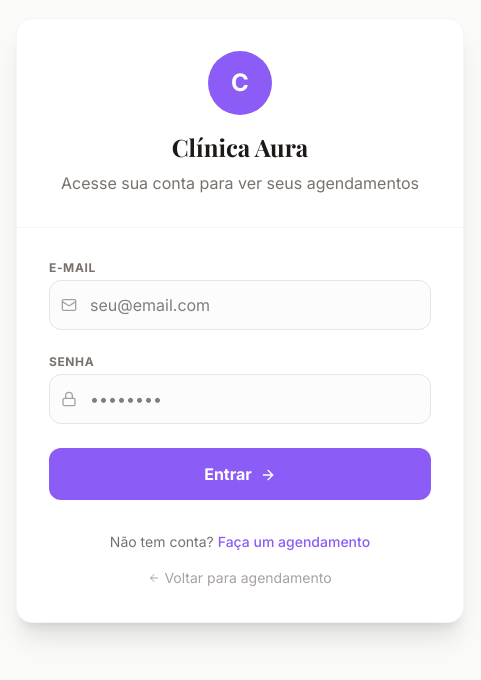
Scenario: pages/patient-portal/PatientLogin › credenciais inválidas (login retorna false) exibe mensagem de erro genérica
Type "maria@example.com" into the field with placeholder "seu@email.com" at (240, 304), box [49,280,431,330]
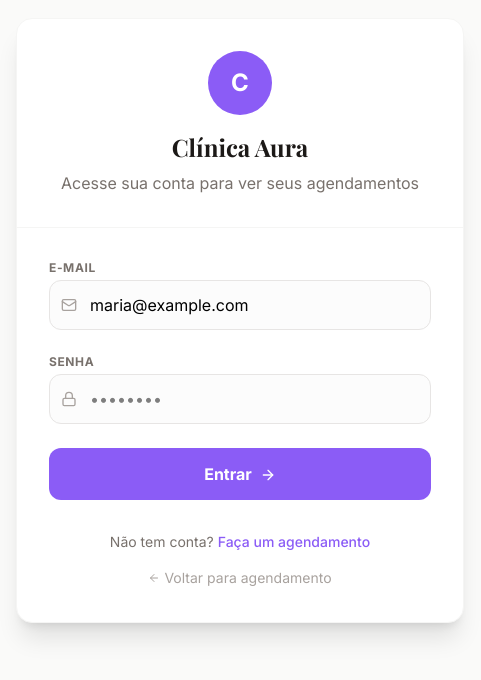
Type "senha123" into the password field with placeholder "••••••••" at (240, 398), box [49,374,431,424]
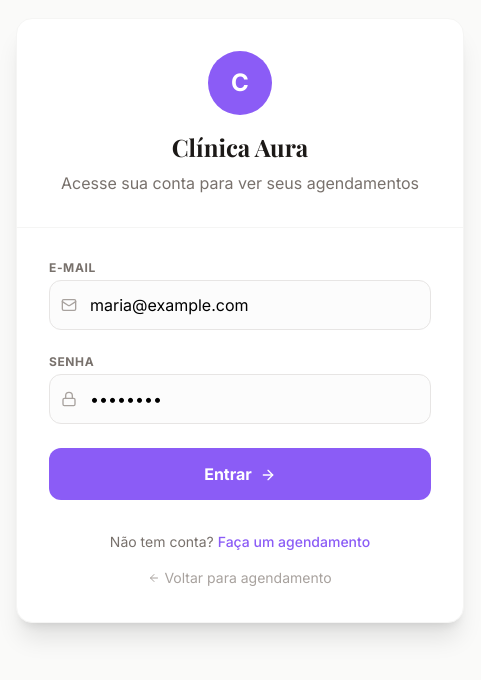
Click the button "Entrar" at (240, 474), box [49,448,431,500]
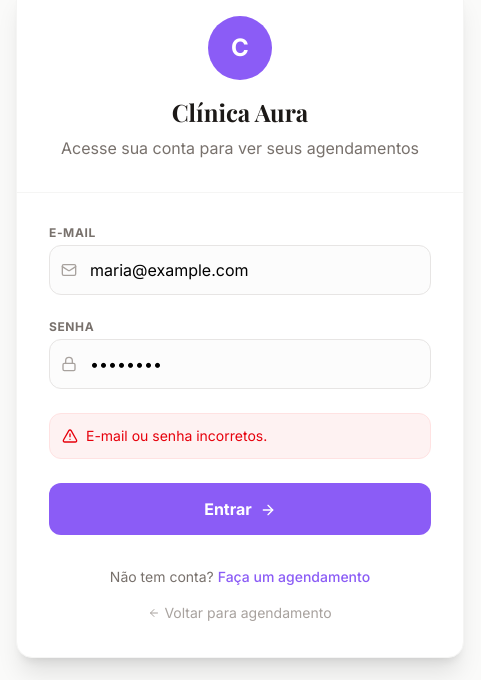
Now the text "E-mail ou senha incorretos." is shown, box [49,412,431,458]
